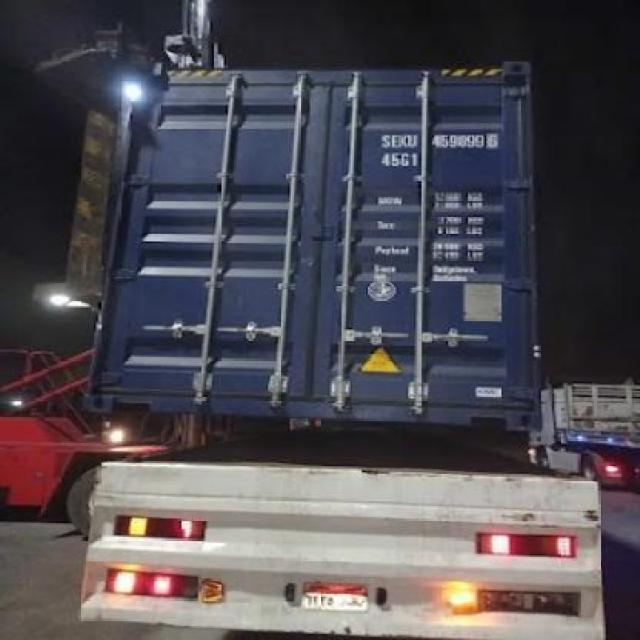ISO: (380, 153, 426, 169)
container_number: (378, 129, 503, 154)
